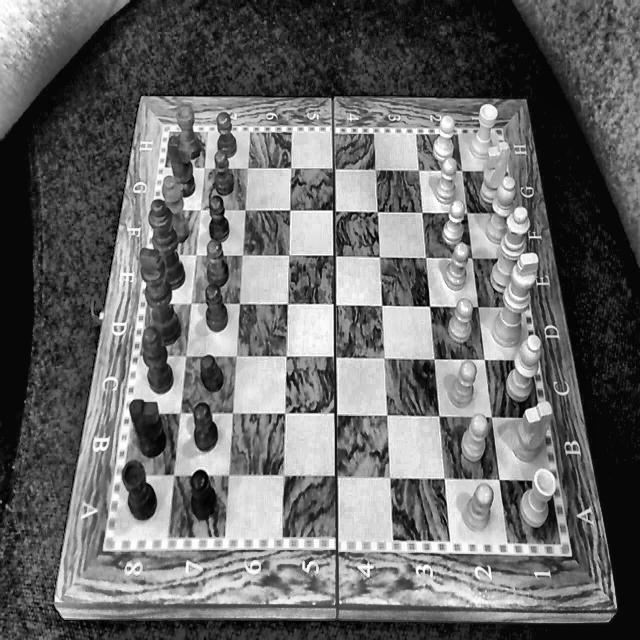chessboard: (112, 131, 558, 542)
